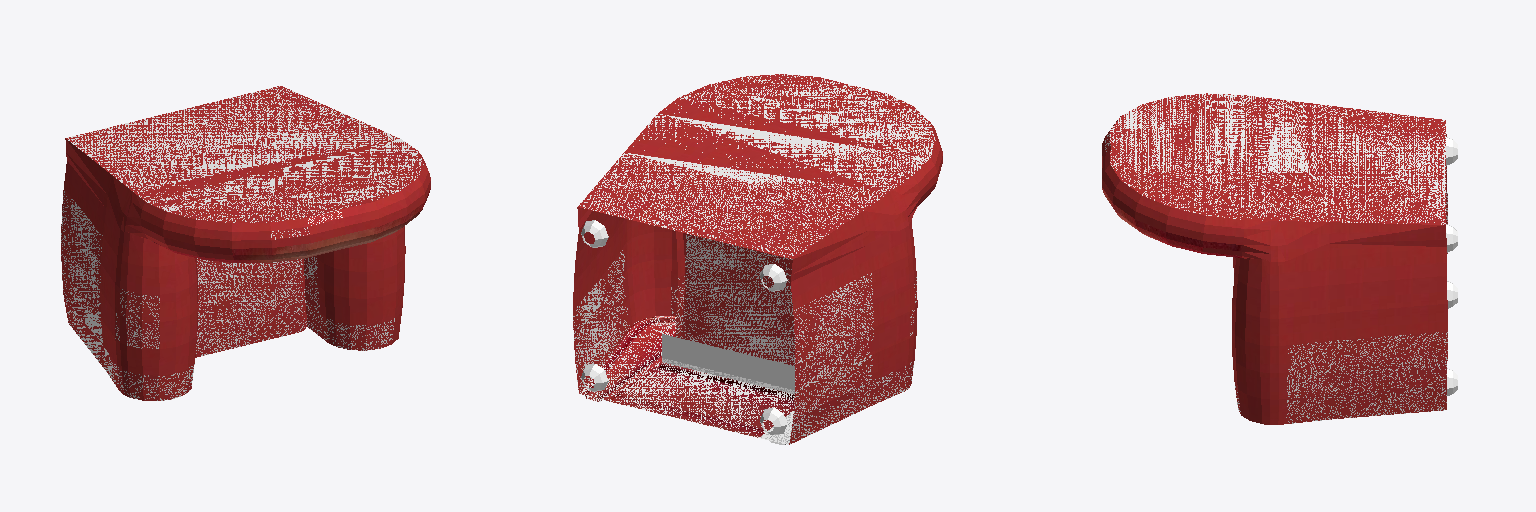
3 renders of one model, left to right at view 1: azimuth 30°, elevation 25°; view 2: azimuth 150°, elevation 25°; view 3: azimuth 270°, elevation 25°, orthographic.
Bounding box in the file's own units: 0.9814 × 0.7178 × 1.07.
Materials: 8 (6 with a texture image).